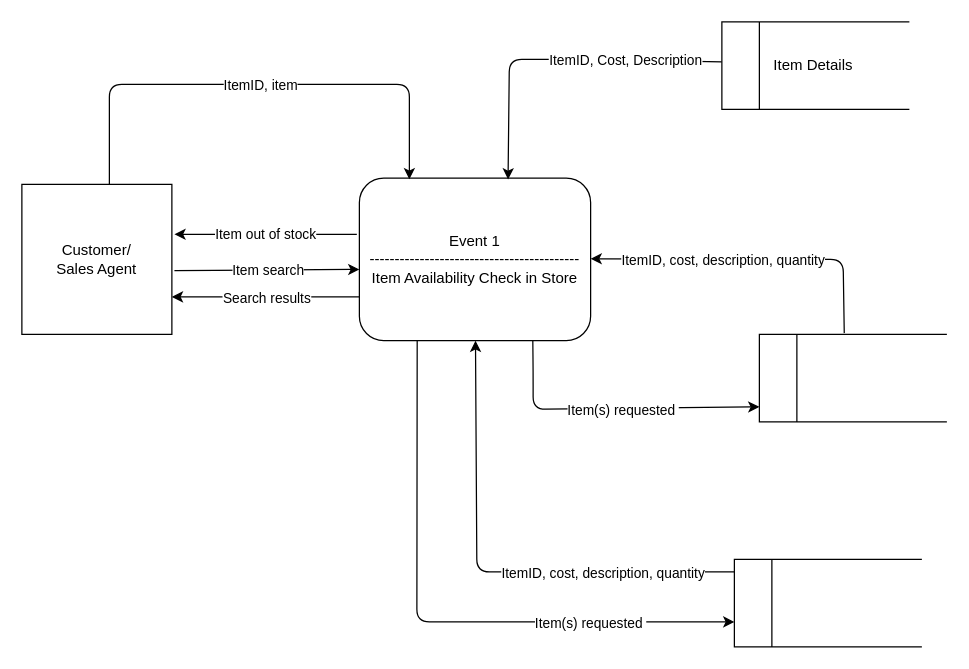
This 969x669 diagram has some shape labels left out. Here are the shapes that lost their labels. From the top down, the box of each, then its label:
(758, 333, 947, 422): Store Inventory Level
(733, 558, 922, 647): Warehouse Inventory Level
